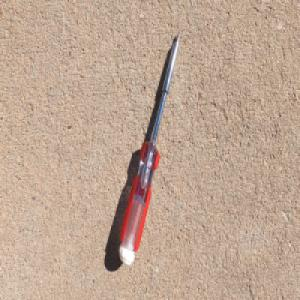Screwdriver: (118, 29, 181, 267)
